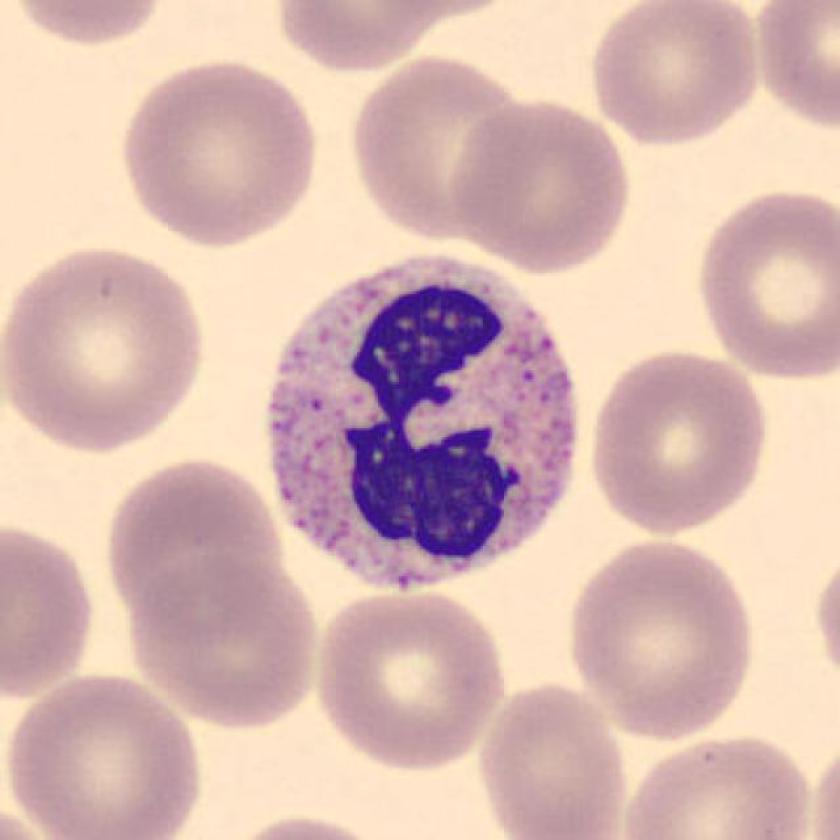neutrophil: (274, 255, 575, 587)
